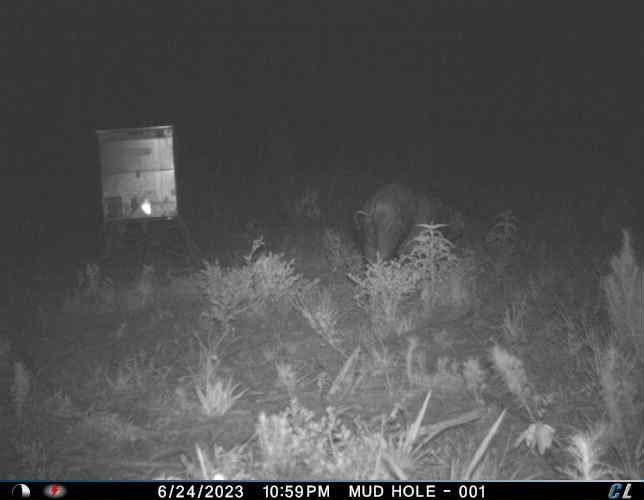Hog: (349, 180, 469, 265)
